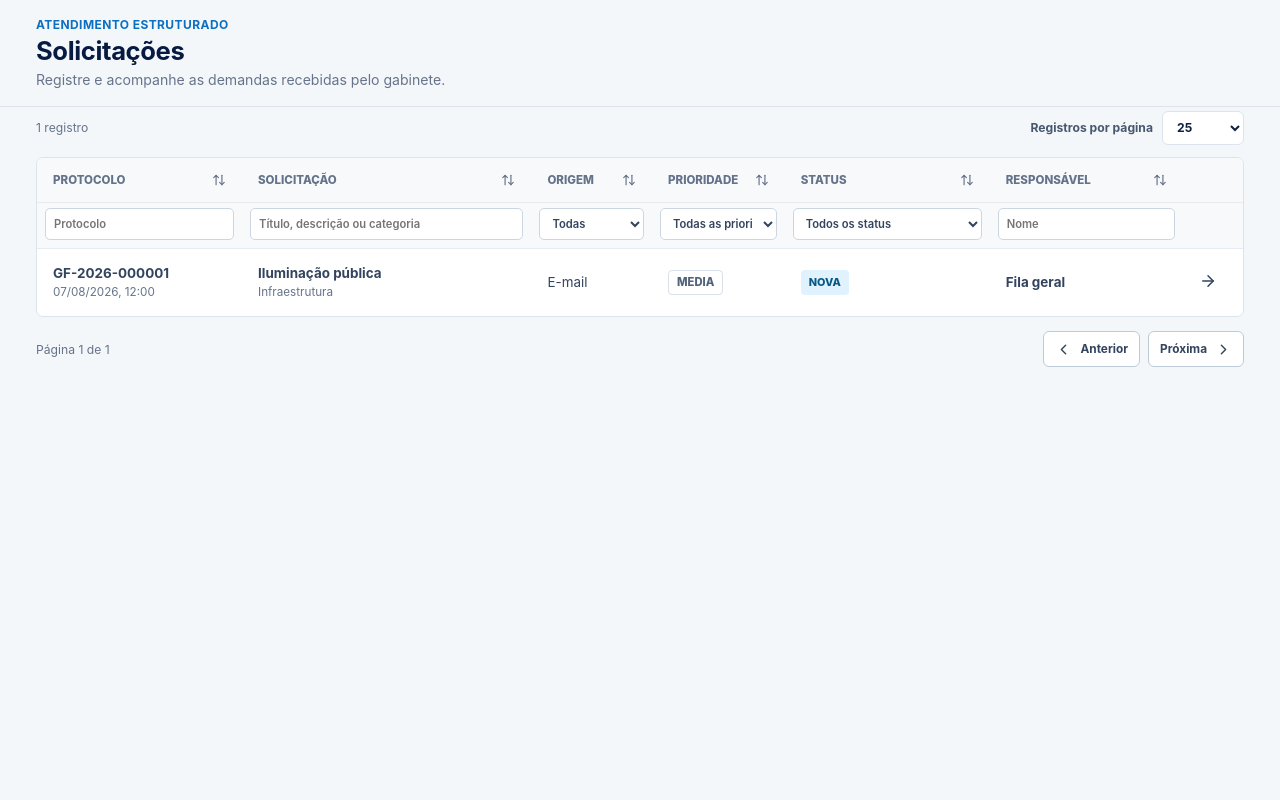
Test case: RequestsPage › oferece ao parlamentar somente a distribuição no detalhe da solicitação
This screenshot has width=1280, height=800.
Step 1. Click the text "Iluminação pública" → (320, 273), box x1=258 y1=265 x2=382 y2=281
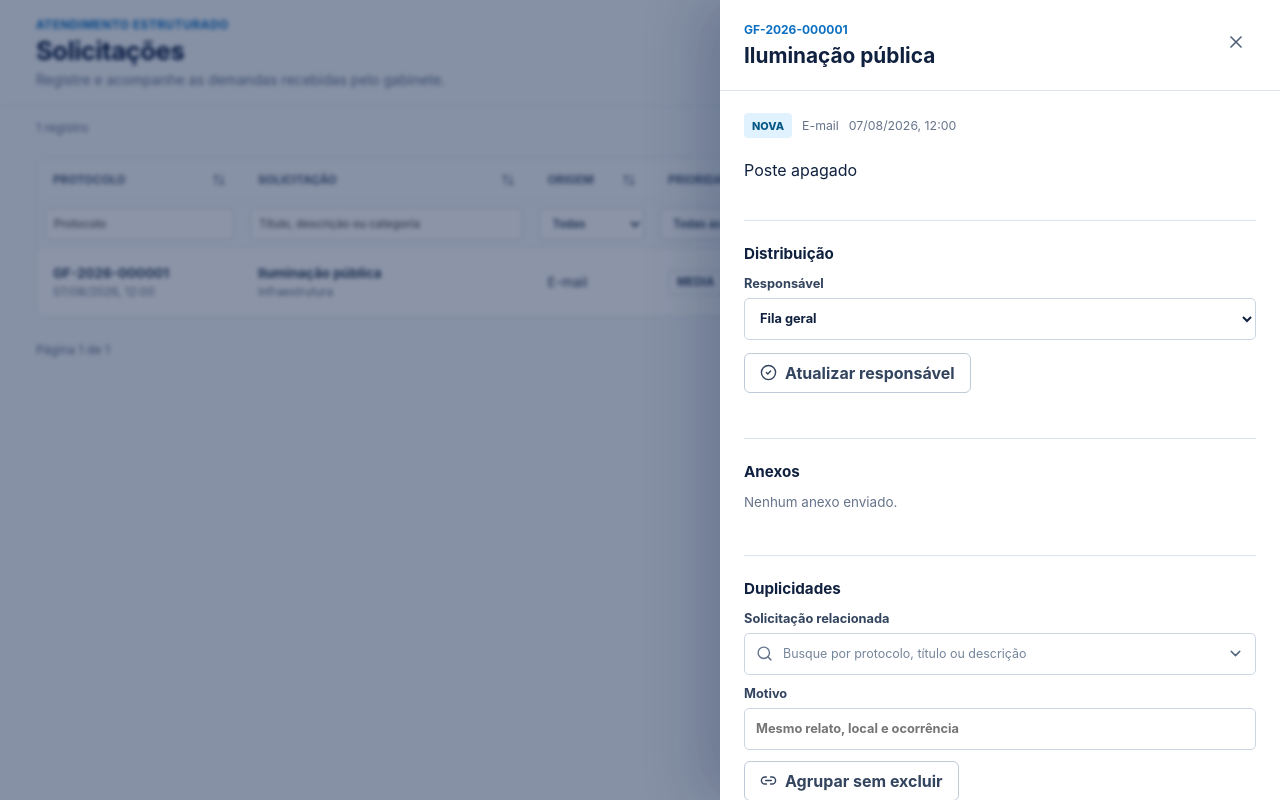
Now the dropdown labelled "Responsável" is shown, box x1=744 y1=298 x2=1256 y2=340
Now the button "Atualizar responsável" is shown, box x1=744 y1=353 x2=971 y2=393
